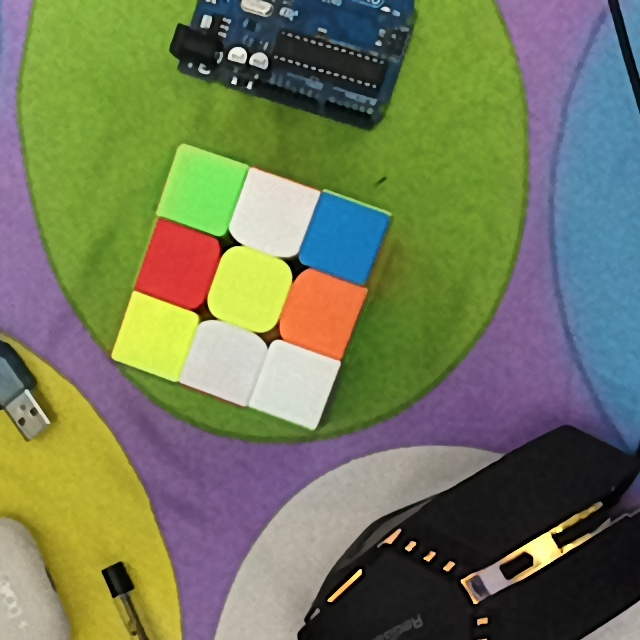tile: (172, 160, 228, 218), (267, 357, 323, 411), (316, 210, 372, 263), (247, 186, 299, 243), (153, 238, 207, 292), (195, 332, 248, 385), (297, 286, 348, 341), (225, 262, 276, 316), (129, 314, 180, 363)
